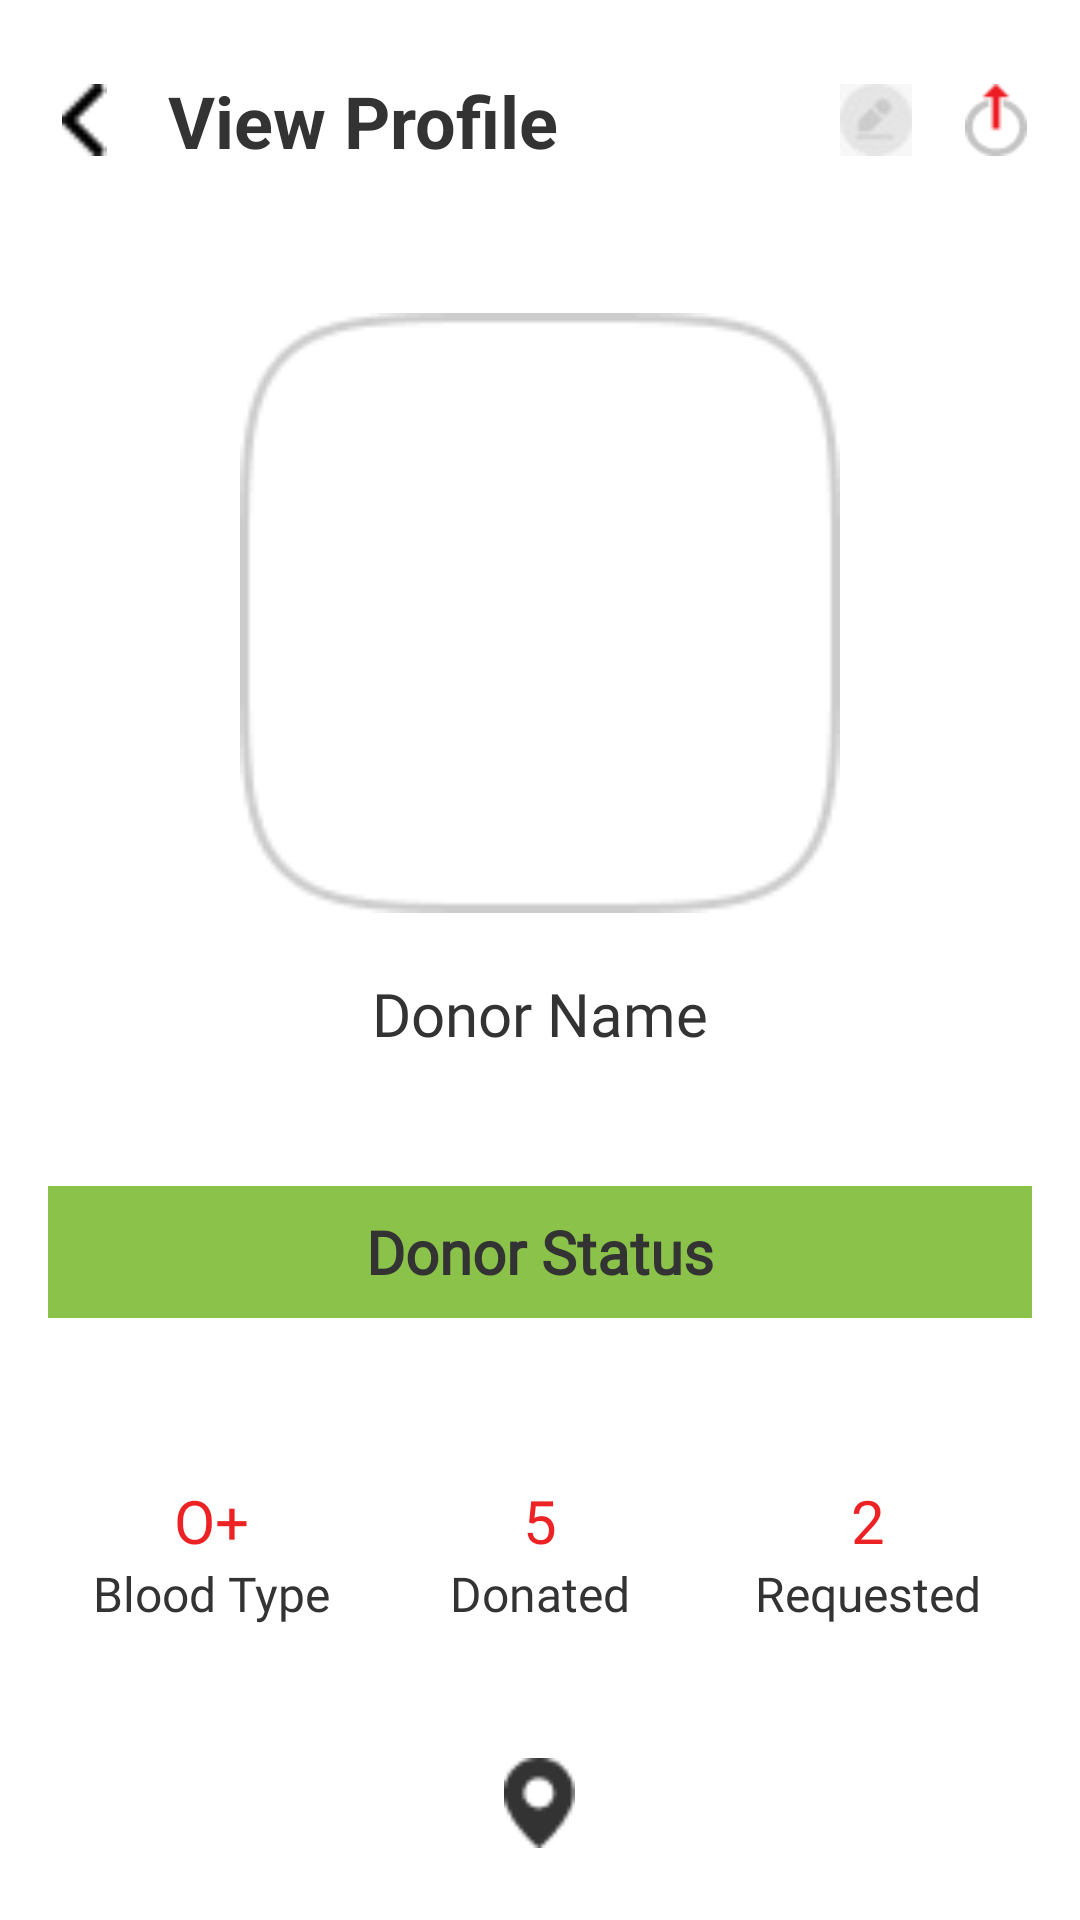

Icon click points for this 1080px x 1920px phone screenshot, format [x,y]:
Back: [84,120]
Edit Profile: [876,120]
location: [539,1803]
